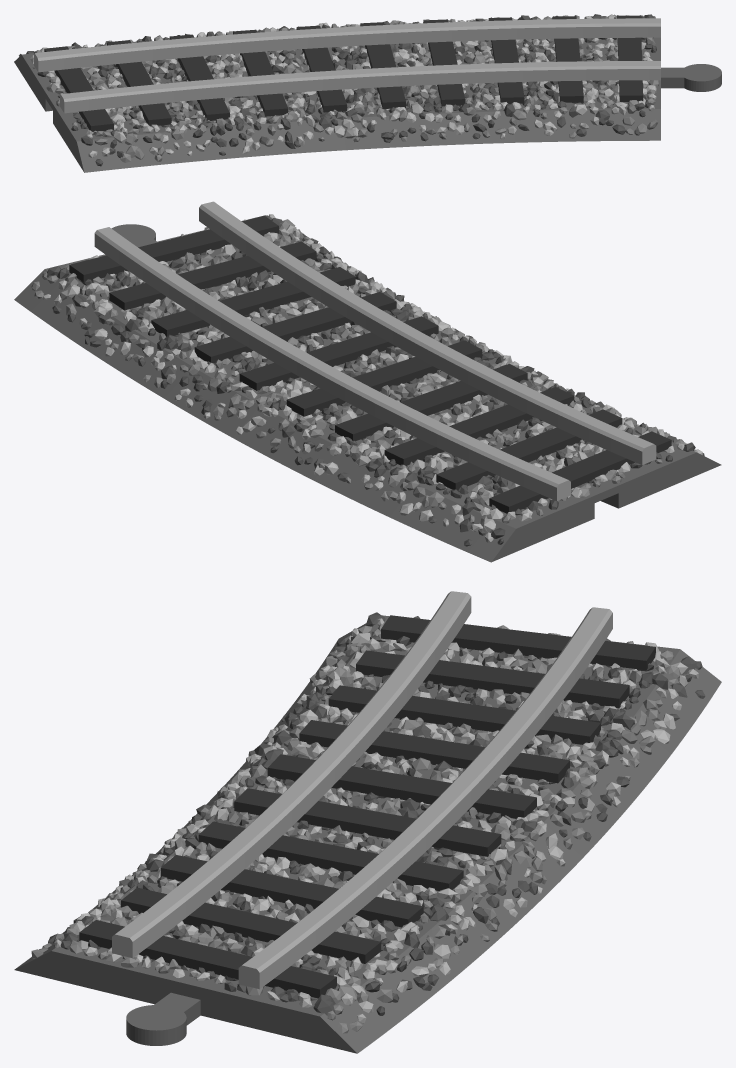
Rendered from Rail_Right_15_30.obj.
The picture shows the model from 3 angles, top to bottom: view 1: azimuth 30°, elevation 25°; view 2: azimuth 150°, elevation 25°; view 3: azimuth 270°, elevation 25°; orthographic projection. The views are drawn at different scales.
Visible parts, largest first — view 1: Rail_Right_15_30; view 2: Rail_Right_15_30; view 3: Rail_Right_15_30.
Part boxes in pixels (x1,y1,x2,y2): Rail_Right_15_30: (14,14,721,172); Rail_Right_15_30: (14,201,721,562); Rail_Right_15_30: (14,591,721,1053).
Bounding box in the file's own units: 1.14 × 0.0798 × 0.821.
1 material, 1 textured.
